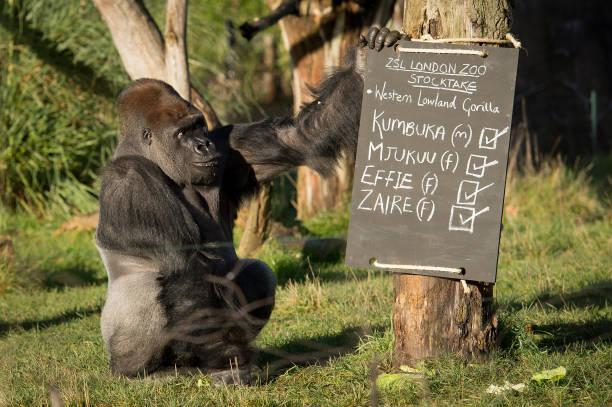gorille_Autres: (89, 50, 310, 391)
